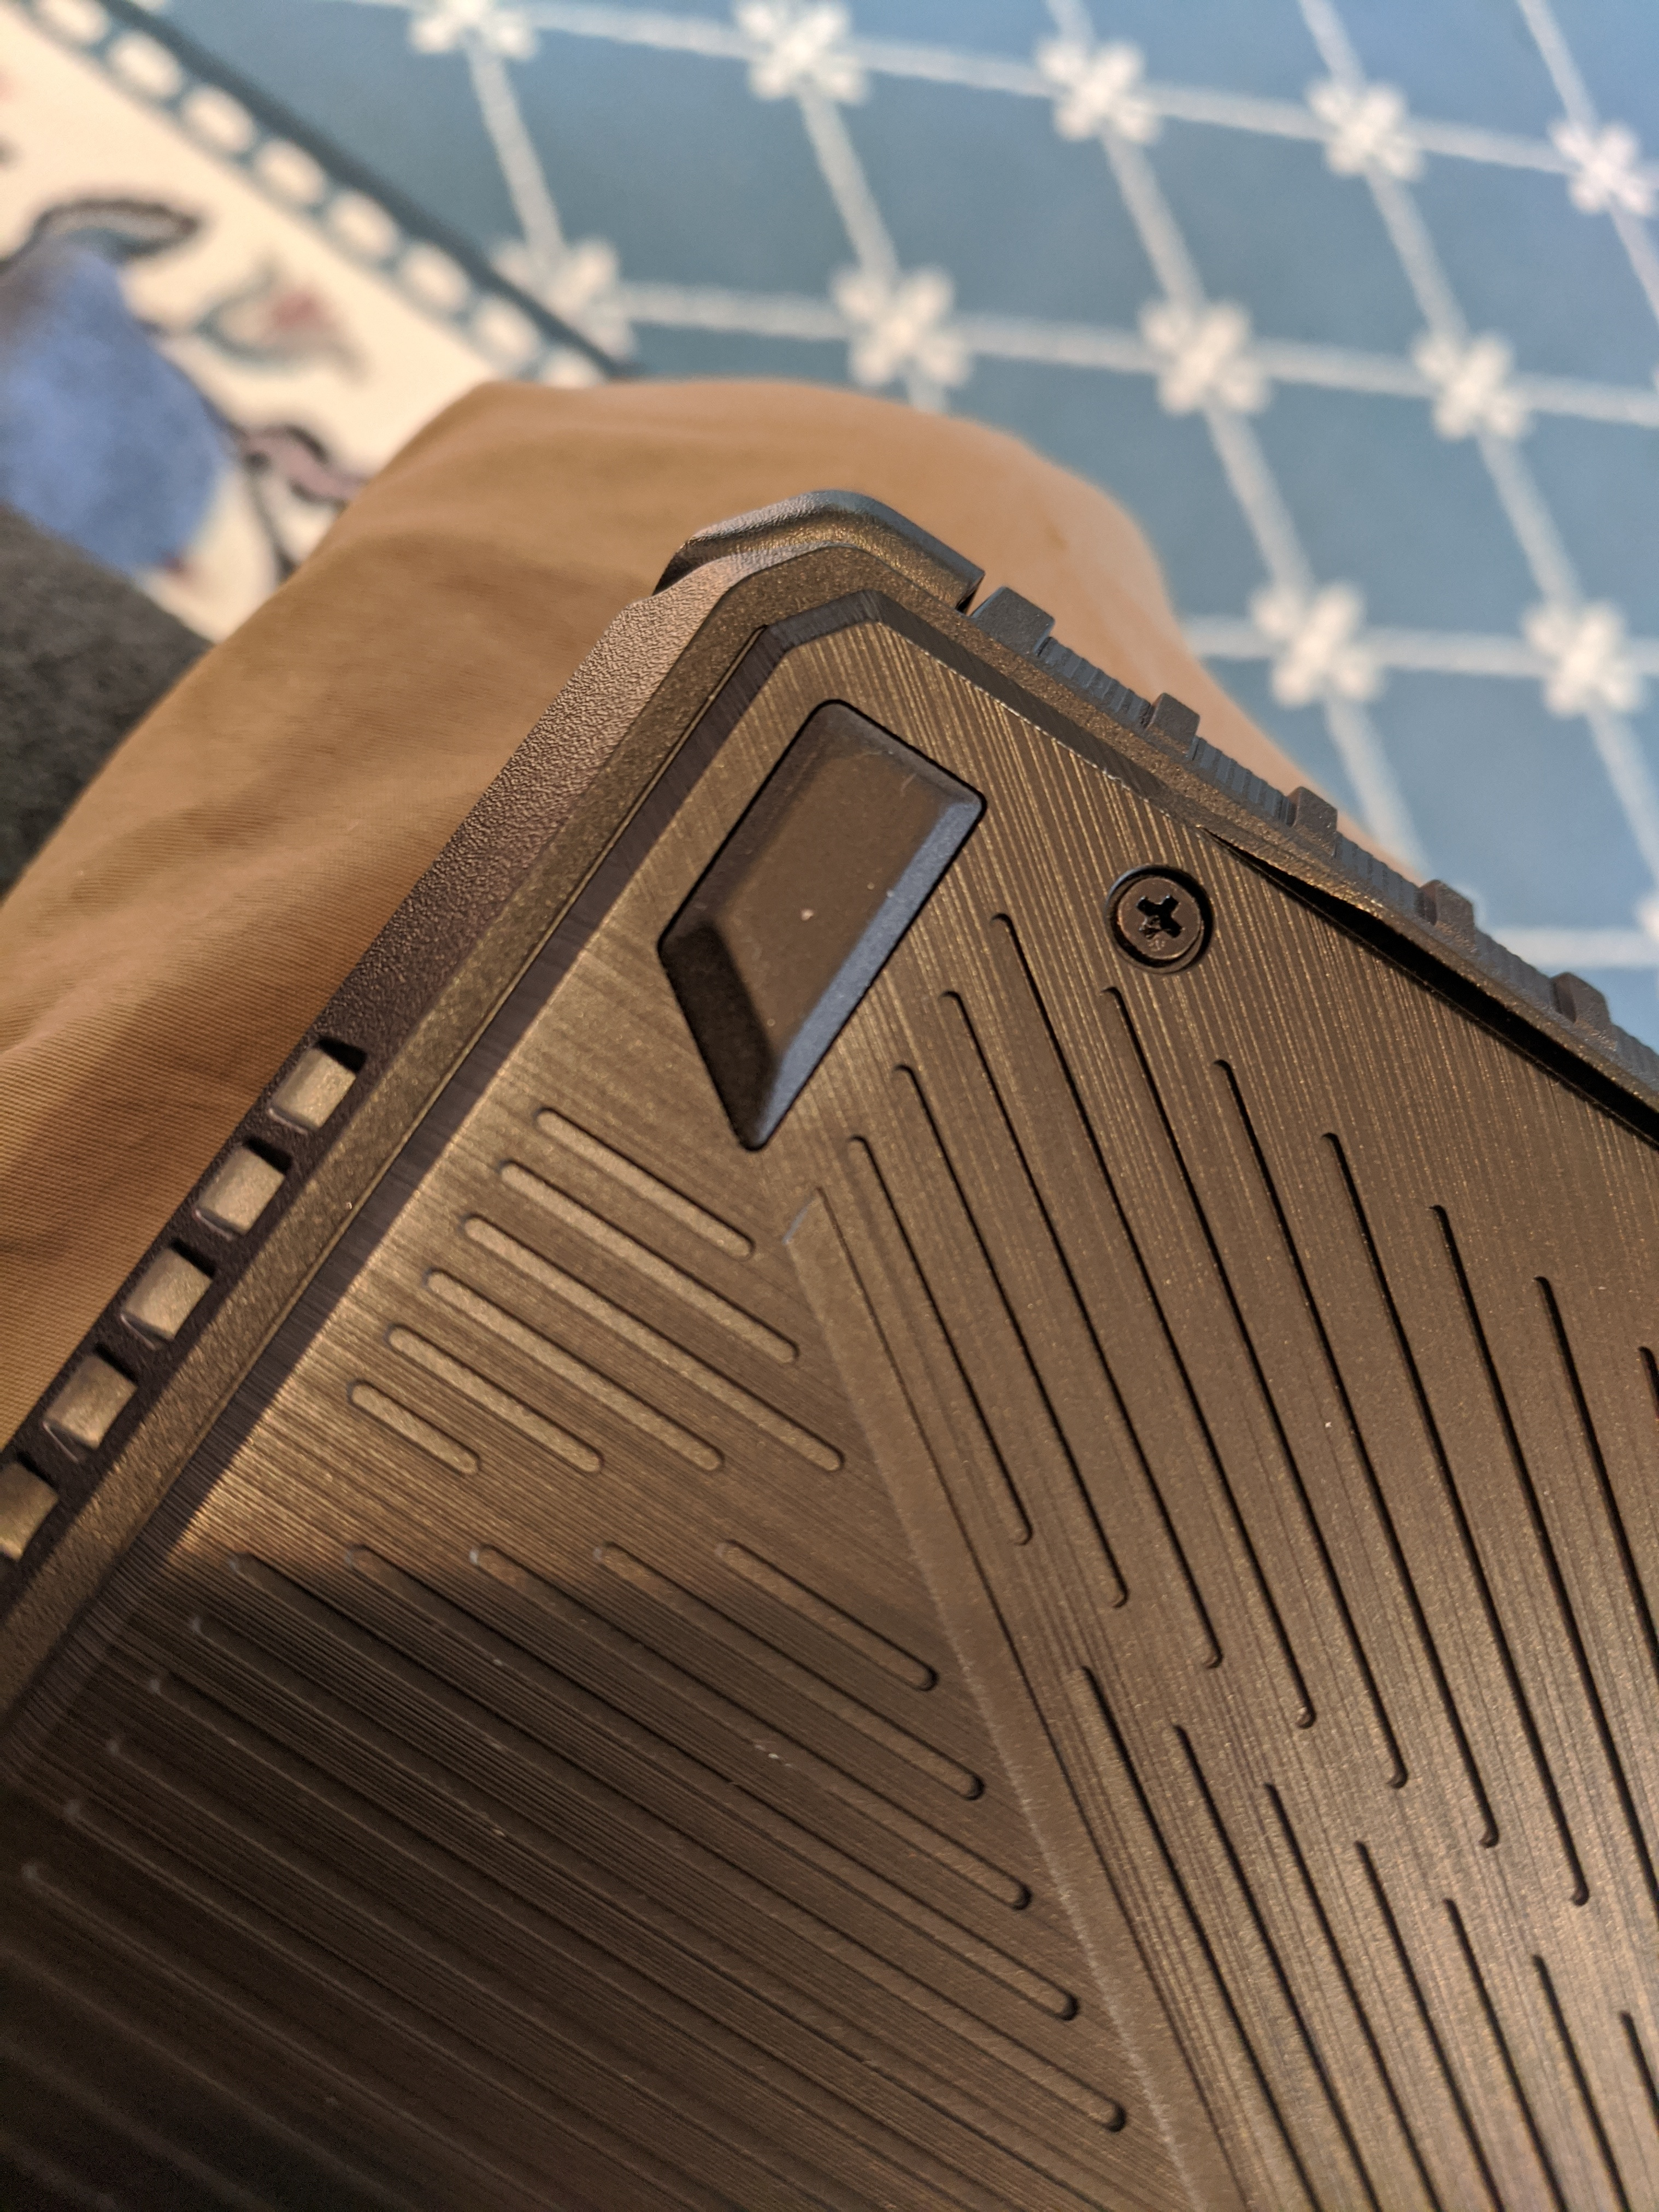cross_recessed_screw: (1089, 845, 1237, 972)
